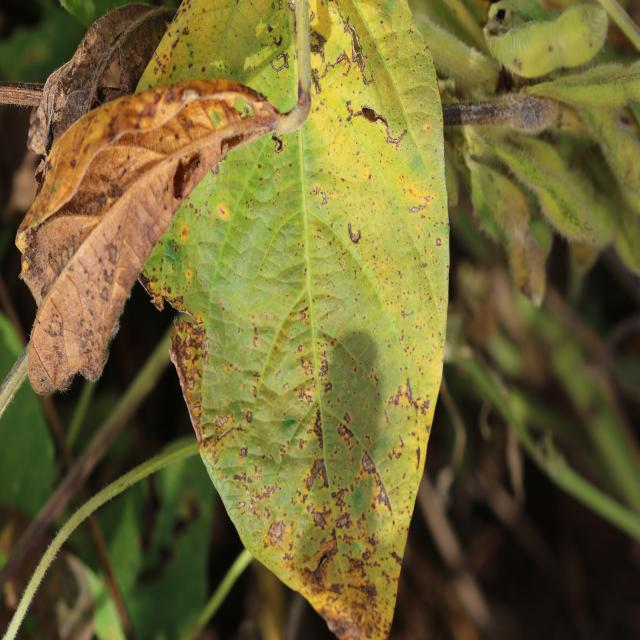Bacterial_Blight: (177, 301, 391, 624), (141, 2, 284, 111), (168, 132, 234, 203), (175, 311, 213, 411), (508, 216, 547, 306), (16, 224, 56, 307), (25, 97, 49, 159), (387, 379, 417, 411), (79, 349, 104, 381), (136, 271, 158, 303), (360, 105, 387, 127)
Soybean: (143, 2, 449, 638)
